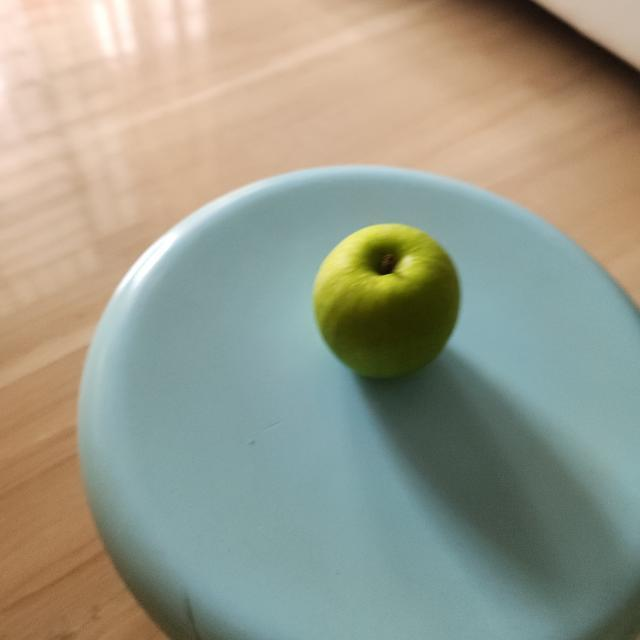apple: (304, 218, 460, 400)
